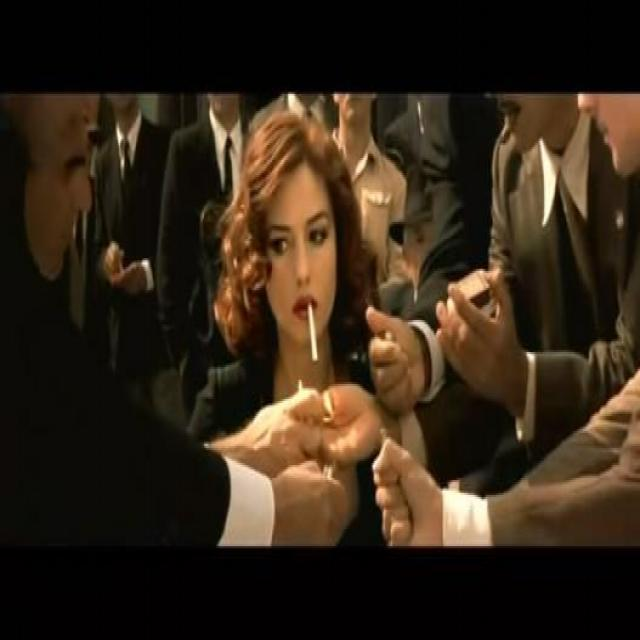smoke: (304, 301, 322, 364)
